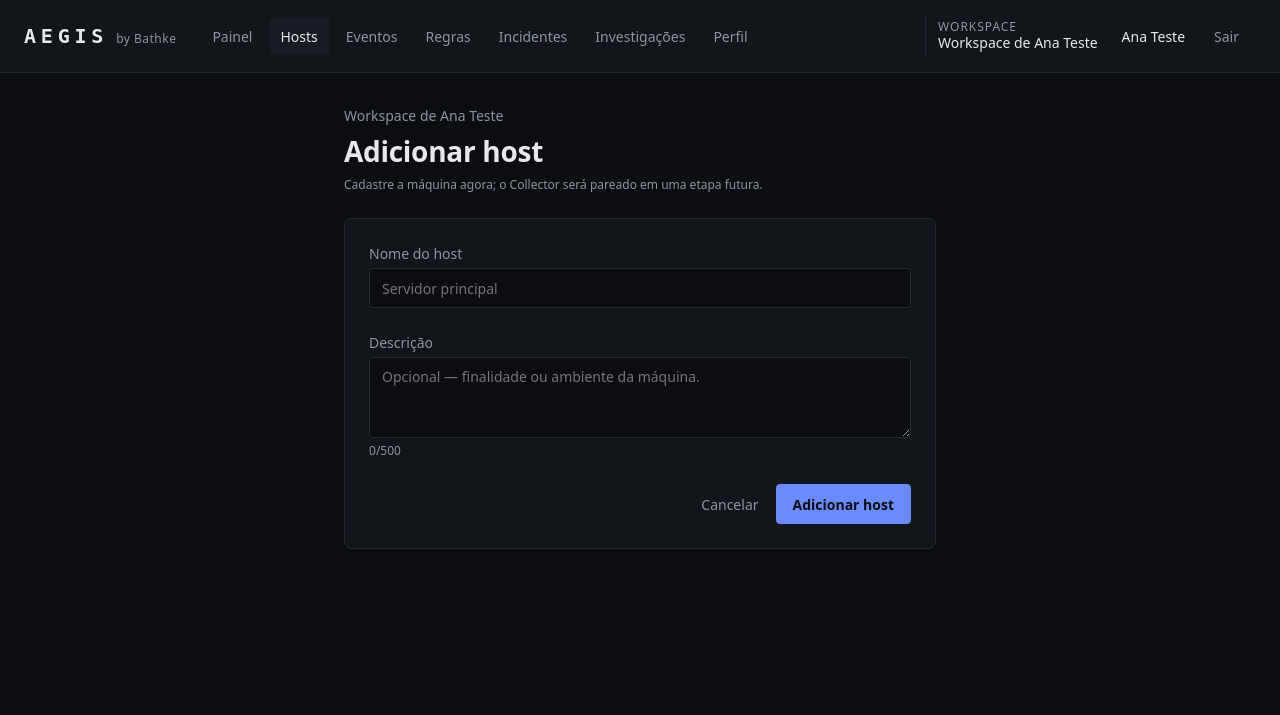
Test: create host (separate screen) › validates the name, posts only administrative fields and opens the new host
Check: the heading "Adicionar host" is shown, box [344, 132, 543, 170]
Check: the field labelled "hostname" is not shown
Click the button "Adicionar host": (843, 504) [776, 484, 911, 524]
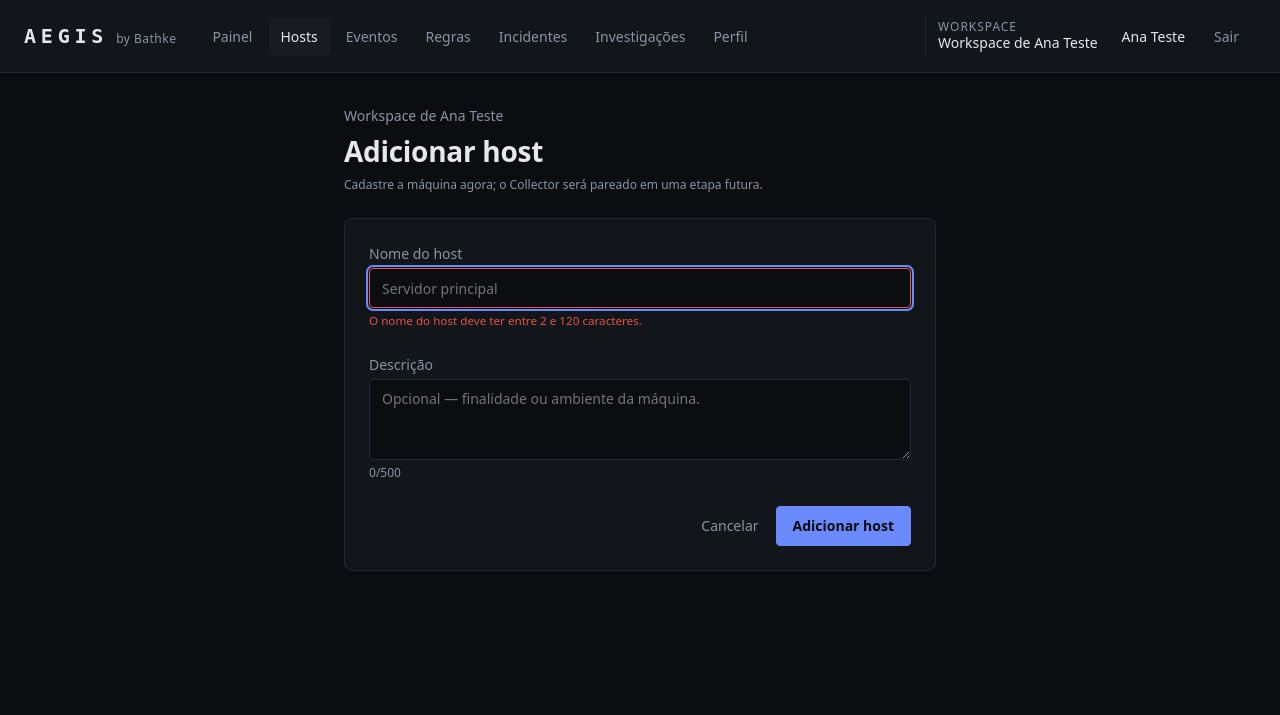
Check: the text "O nome do host deve ter entre 2 e 120 caracteres." is shown, box [369, 313, 642, 328]
In the field labelled "Nome do host": (640, 288) [369, 268, 911, 308], type "  Servidor principal "
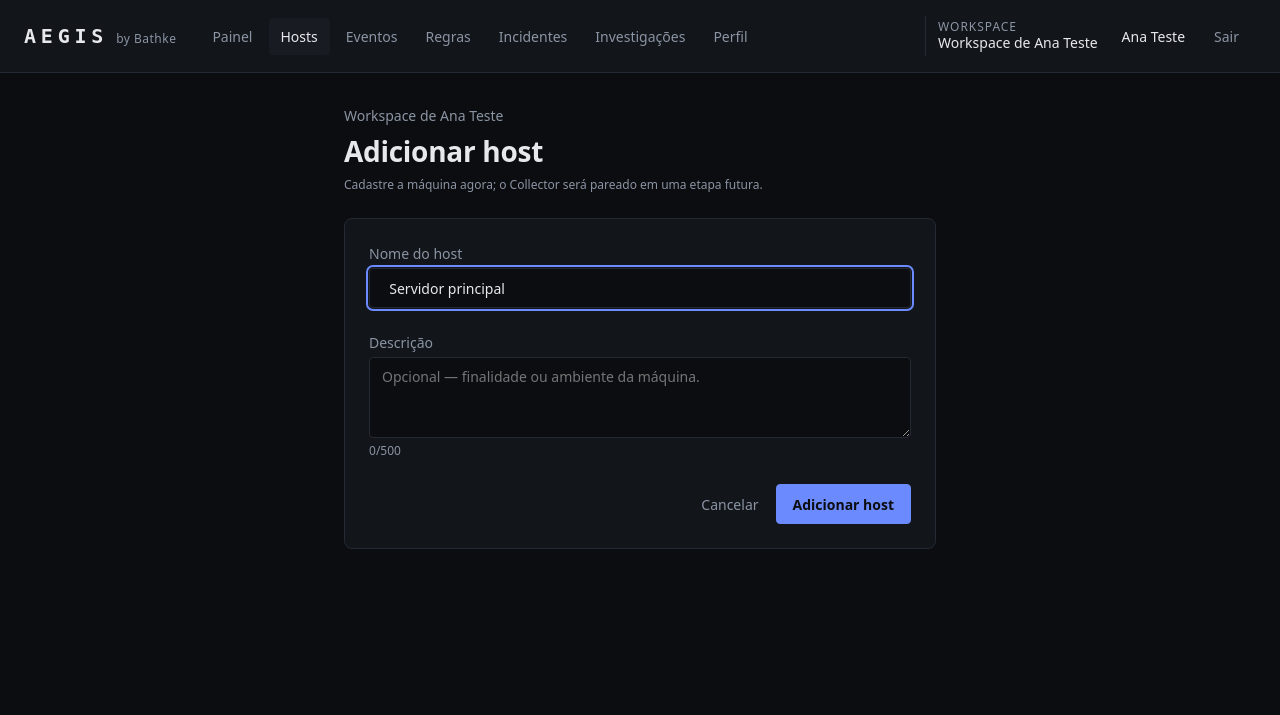
Click the button "Adicionar host": (843, 504) [776, 484, 911, 524]
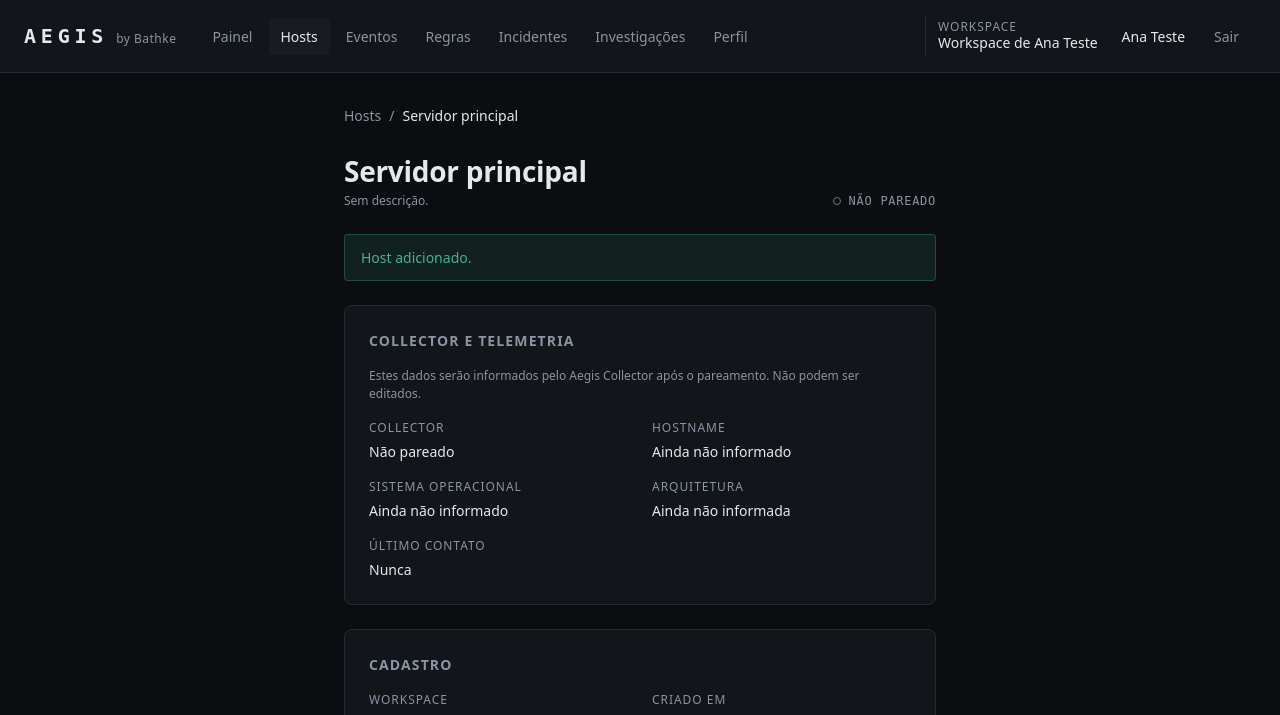
Check: the text "Host adicionado." is shown, box [344, 234, 936, 281]
